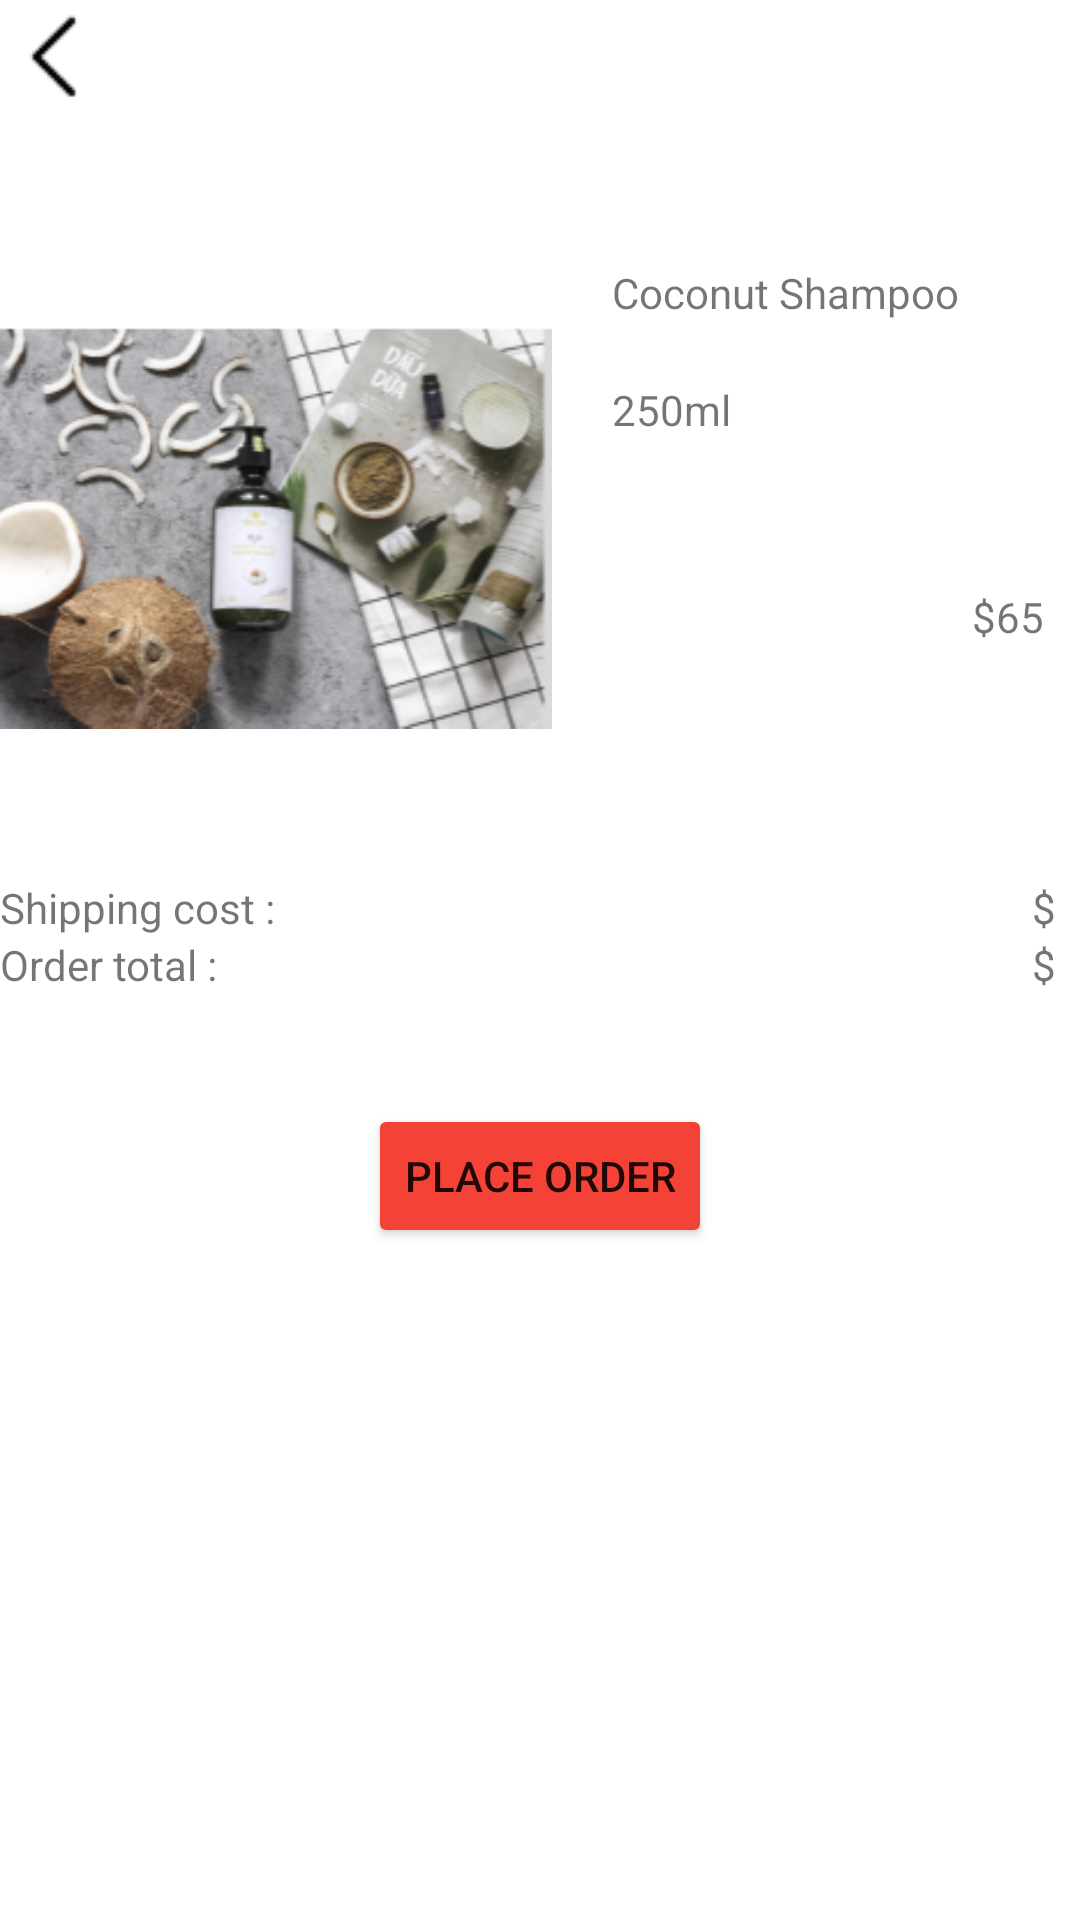

Locate icon controls on the screen. Image size 1080*1920, boxes as box=[x1, y1, x2, y2].
back: box=[30, 15, 76, 97]
